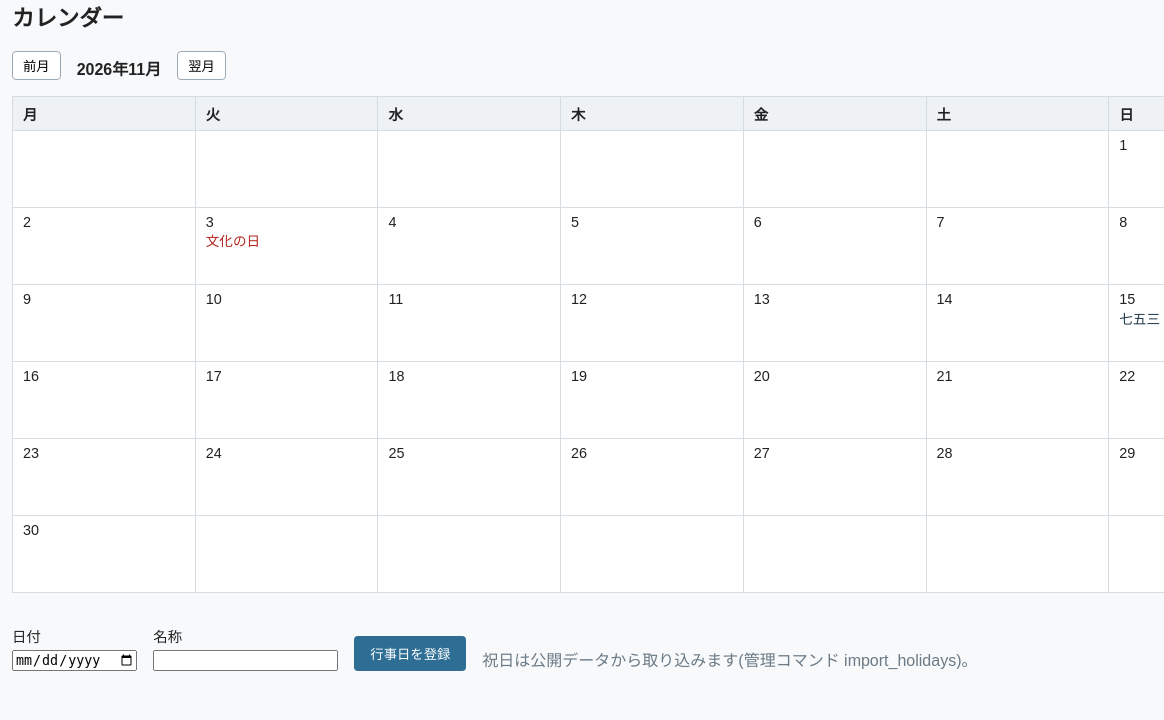
register event and move months
This screenshot has width=1164, height=720.
Expected: the text "2026年11月" is shown, 77,56 -> 161,80
Type "2026-11-20" into the date field labelled "日付".
click(75, 660); type("2026-11-20")  # box 12,650 -> 137,671
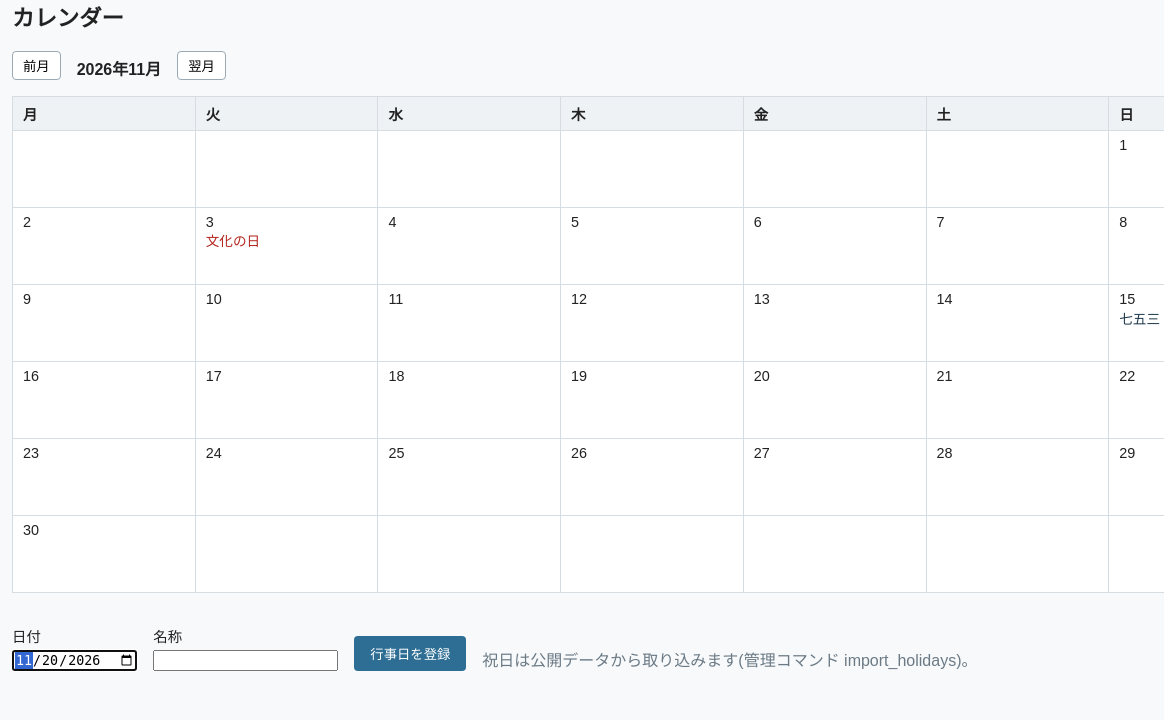
Type "感謝祭" into the field labelled "名称".
click(246, 660); type("感謝祭")  # box 153,650 -> 338,671
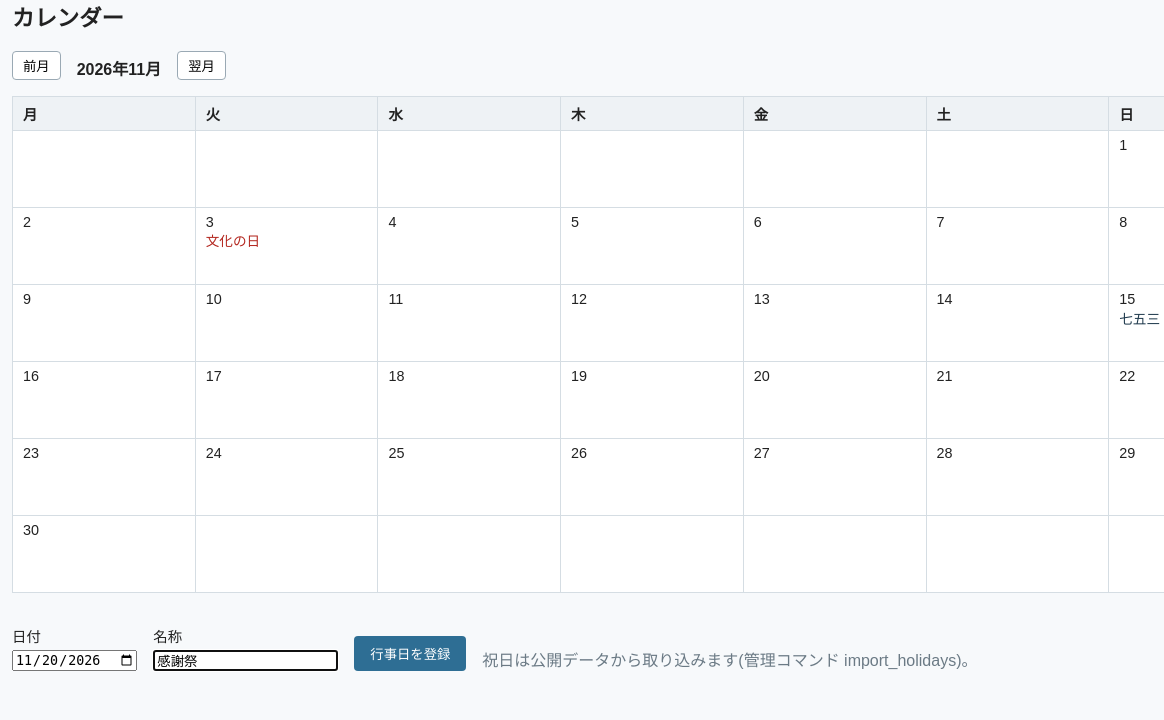
Click the button "行事日を登録".
click(410, 653)  # box 354,636 -> 466,671
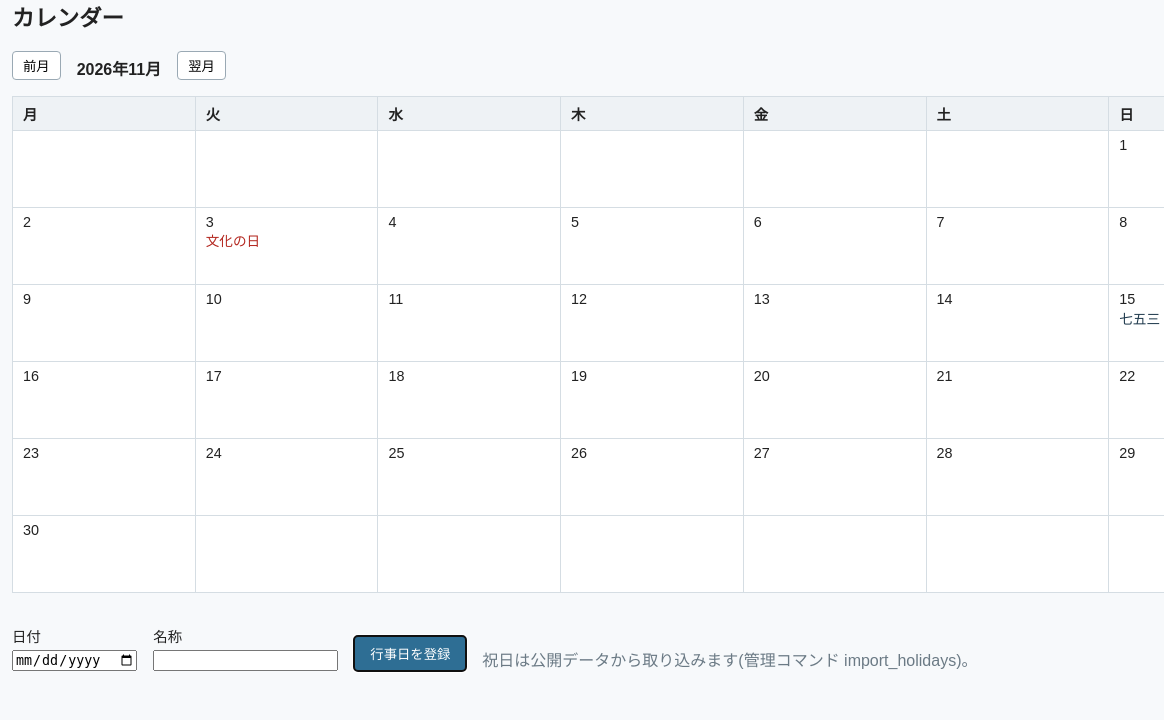
Click the button "翌月".
click(202, 65)  # box 177,51 -> 226,80
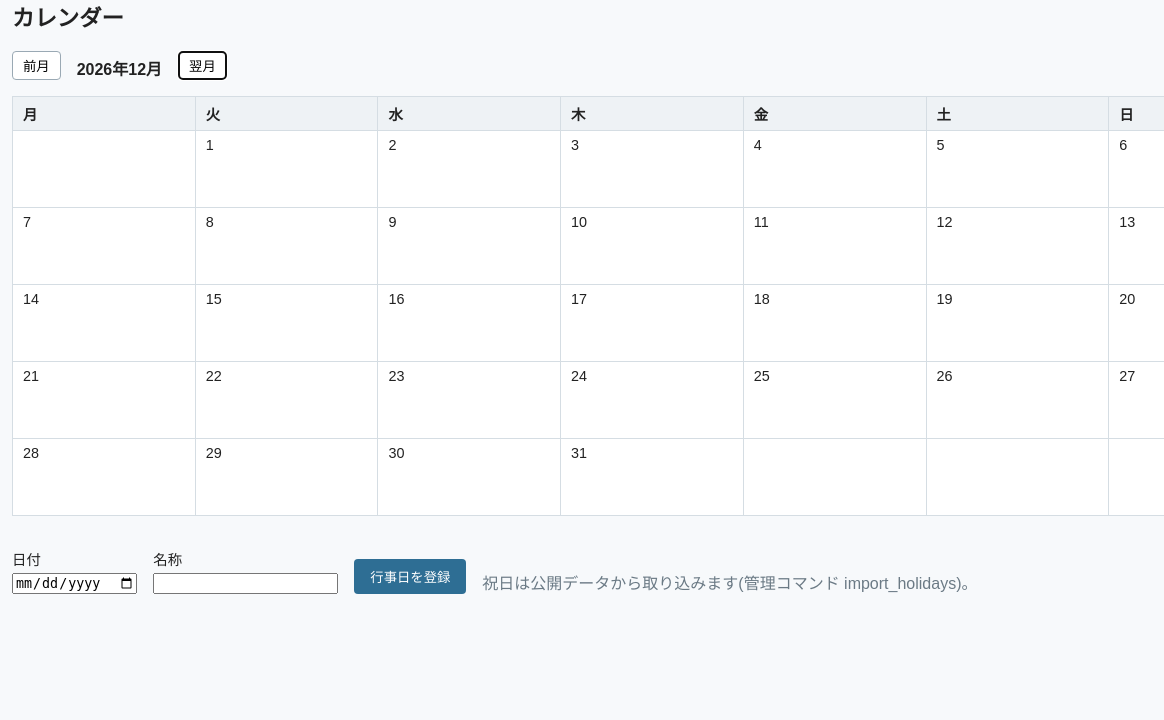
Now the text "2026年12月" is shown, box 77,56 -> 162,80
Click the button "翌月".
click(202, 65)  # box 178,51 -> 227,80
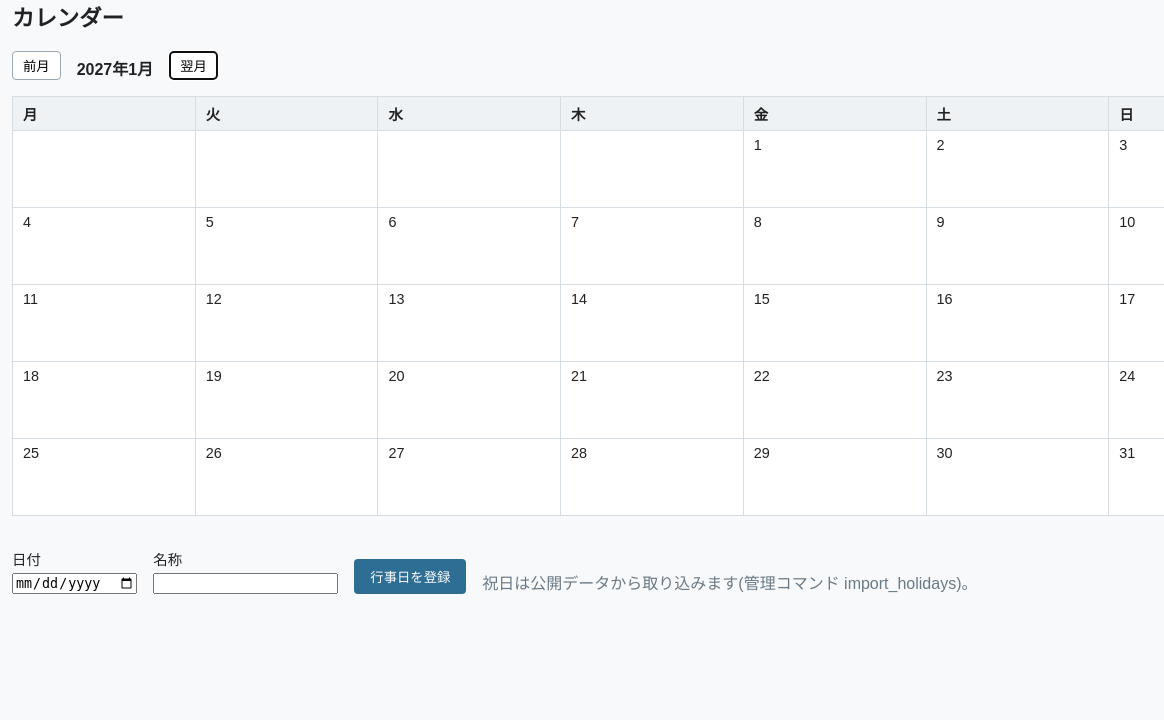
Now the text "2027年1月" is shown, box 77,56 -> 153,80
